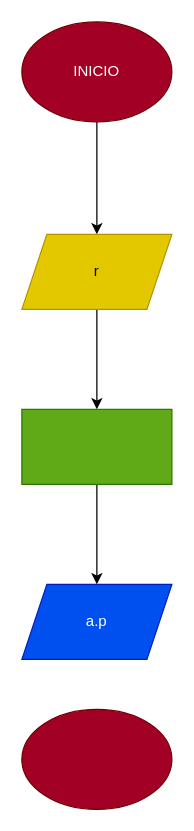
This 194x831 diagram has some shape labels left out. Here are the shapes that lost their labels. From the top down, the box of each, then its label:
(21, 408, 172, 484): a = pi * r. r p = 2. pi. r
(21, 708, 172, 809): FIN
